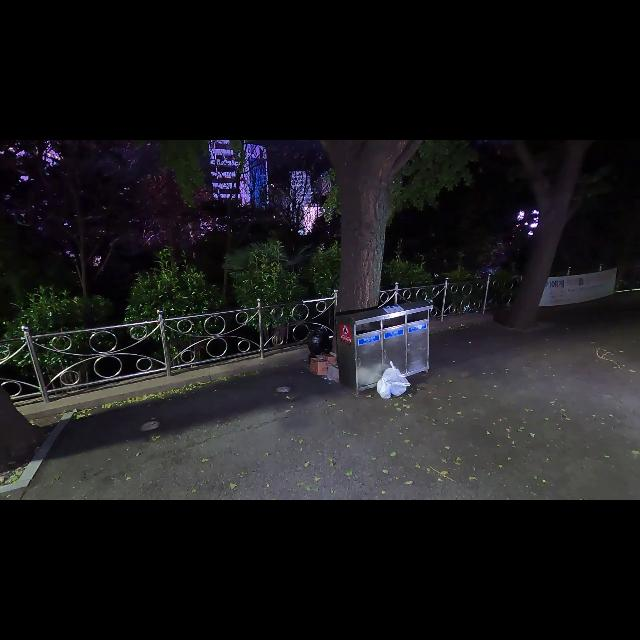trash: (306, 326, 332, 366), (380, 361, 410, 394), (308, 356, 338, 376), (388, 380, 408, 398), (376, 377, 392, 399), (322, 353, 336, 361)
